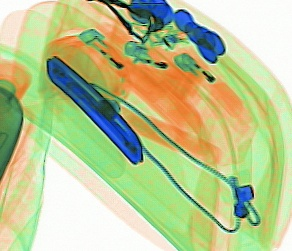lighter: (77, 27, 166, 105), (172, 51, 245, 120), (120, 39, 200, 77)
